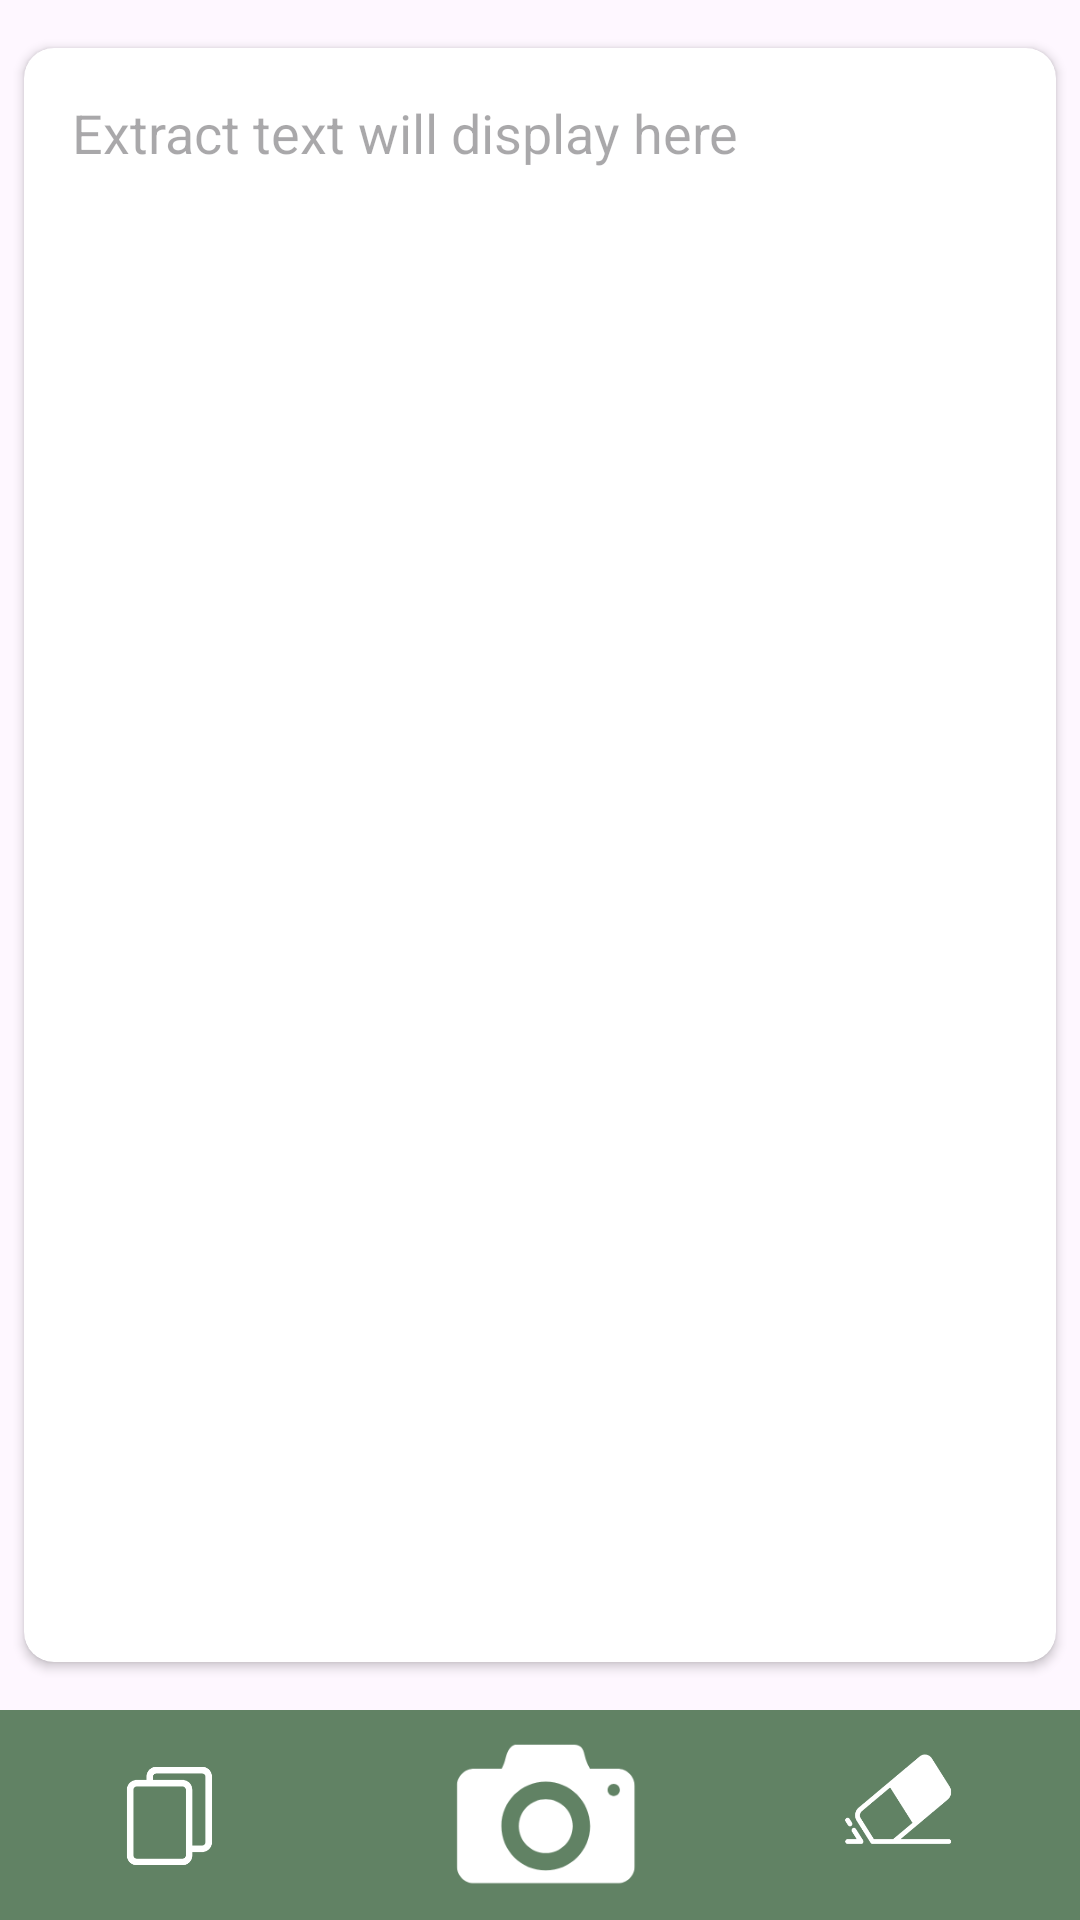

Icons on this 1080×1920 Android screen, each with its box as (x1, y1, x2, y2):
cam: (457, 1744, 635, 1884)
eraser: (845, 1754, 951, 1844)
